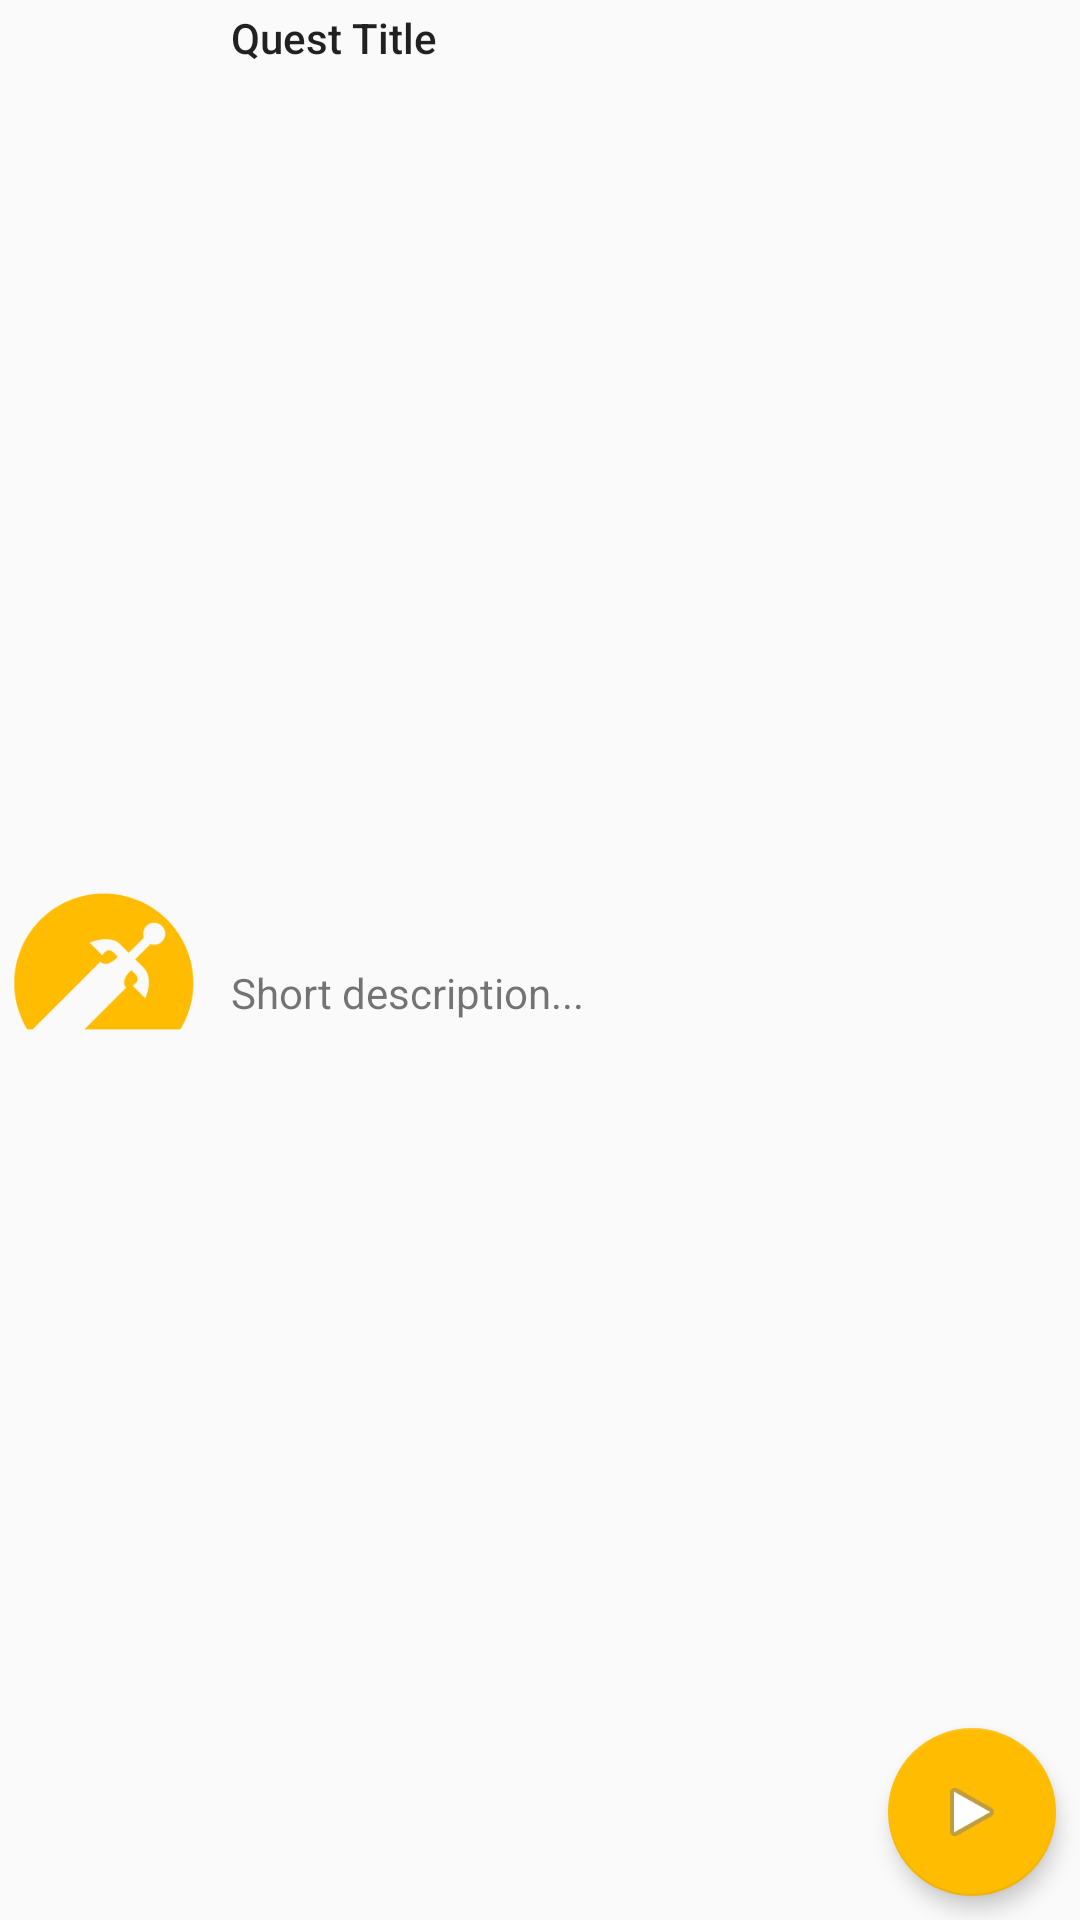

Named icons in this screenshot (1080px×1920px) and their bounding boxes, bbox=(x1, y1, x2, y2):
play: bbox=(888, 1728, 1056, 1896)
